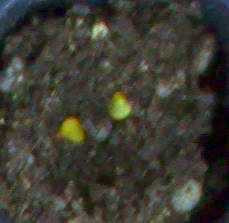chilli seed: (108, 92, 131, 120), (60, 117, 84, 142)
